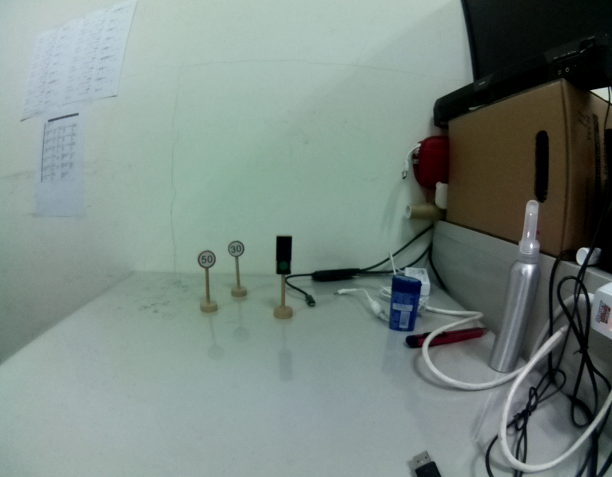Green: (274, 233, 295, 277)
Speed30: (228, 239, 246, 258)
Speed50: (195, 249, 216, 270)
